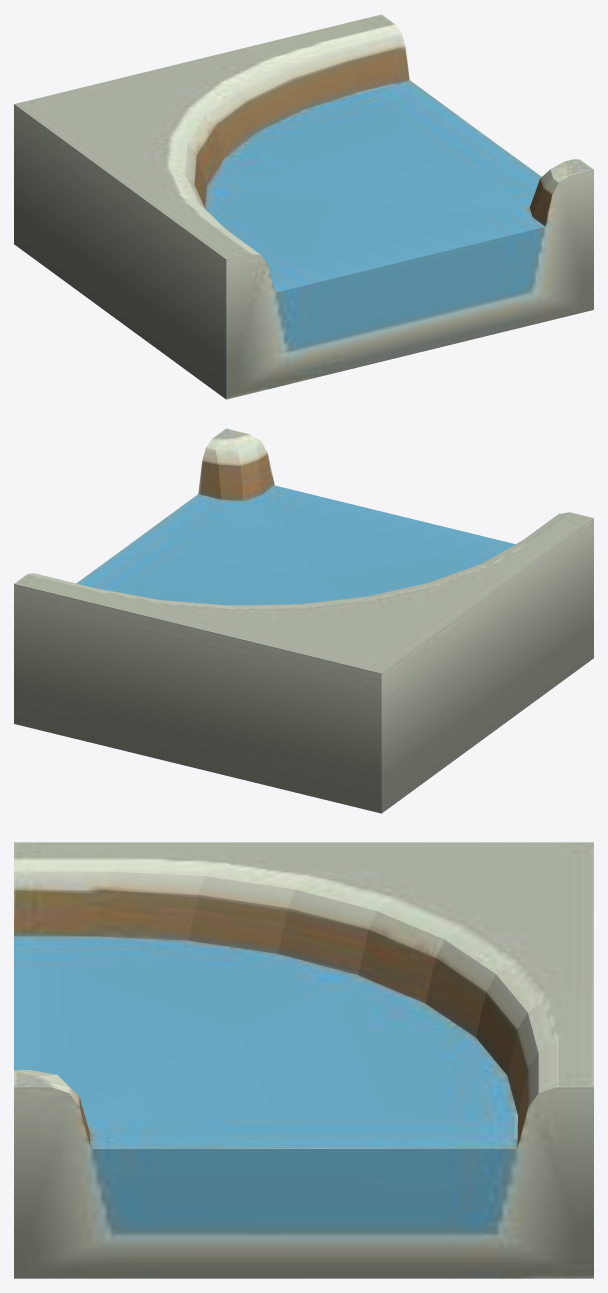
The model's file is creek_end.glb.
3 views of the same model, one above another, from view 1: azimuth 30°, elevation 25°; view 2: azimuth 150°, elevation 25°; view 3: azimuth 270°, elevation 25° (orthographic). The views are drawn at different scales.
Parts seen in each view (by area): view 1: creek_end; view 2: creek_end; view 3: creek_end.
Boxes of the visible parts, left/top/right/bottom form: creek_end: left=14, top=14, right=593, bottom=399; creek_end: left=14, top=428, right=593, bottom=813; creek_end: left=14, top=842, right=593, bottom=1278.
Bounding box in the file's own units: 2 × 0.7285 × 2.
1 material, 1 textured.
